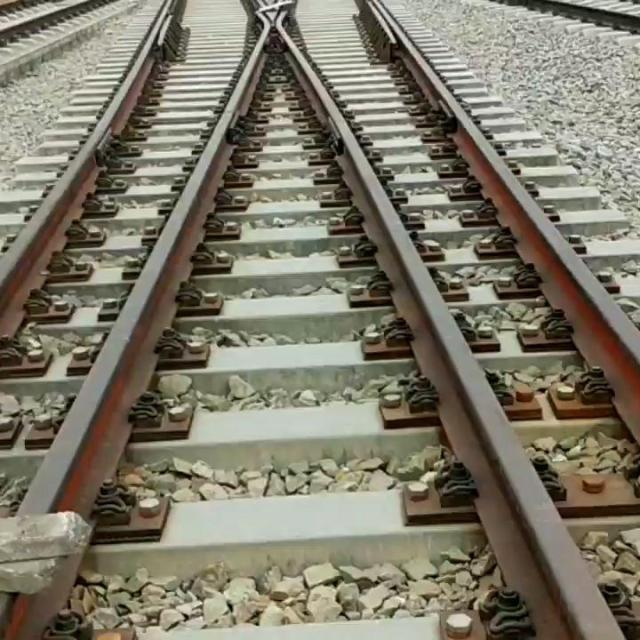rail: (280, 29, 620, 640), (21, 28, 270, 517), (381, 7, 640, 443), (1, 1, 185, 336), (1, 1, 111, 48), (505, 1, 640, 34), (253, 1, 298, 26)
